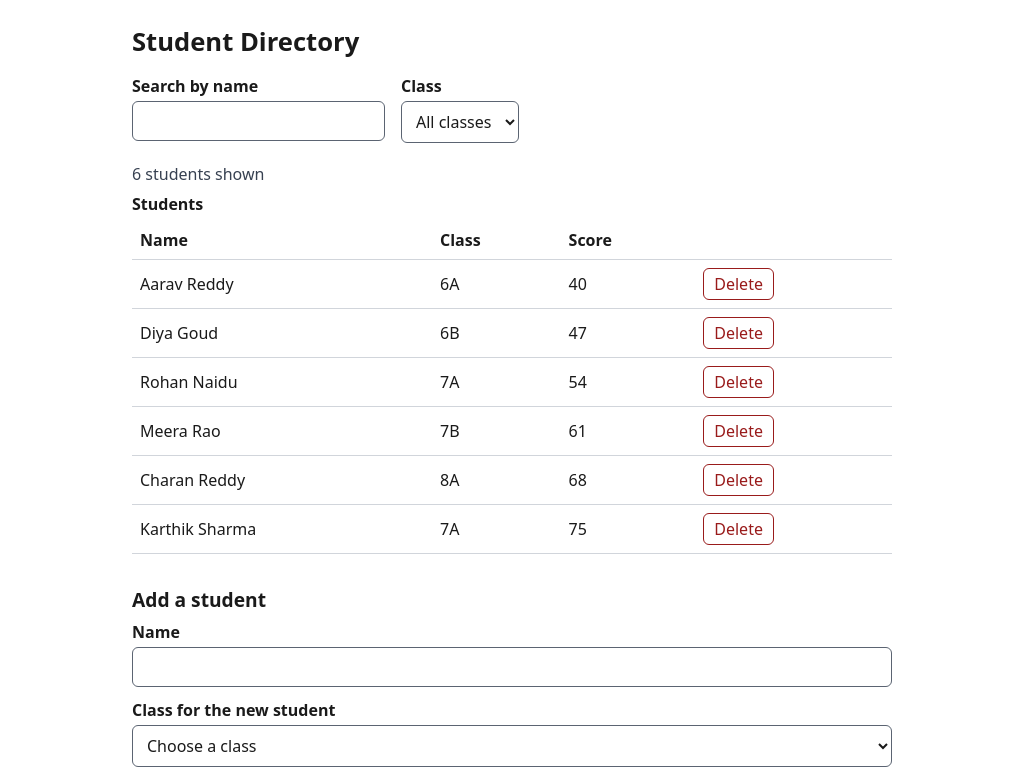
Test: adding a student › adds, announces it, shows it, clears the form and puts the cursor back in Name
The image size is (1024, 768).
Check: the table is shown, box x1=132 y1=193 x2=892 y2=554
Type "Zara Khan" into the field labelled "Name".
click(512, 667); type("Zara Khan")  # box x1=132 y1=647 x2=892 y2=687
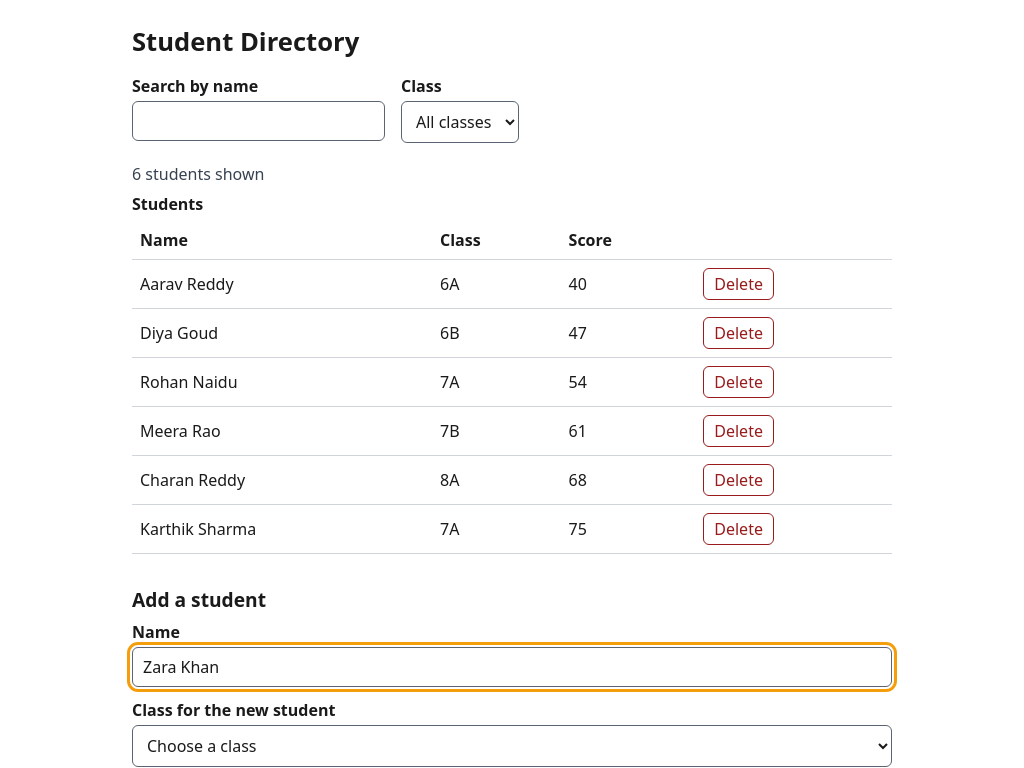
Select "8A" in the dropdown labelled "Class for the new student" at (512, 746), box x1=132 y1=725 x2=892 y2=767
(page scrolled)
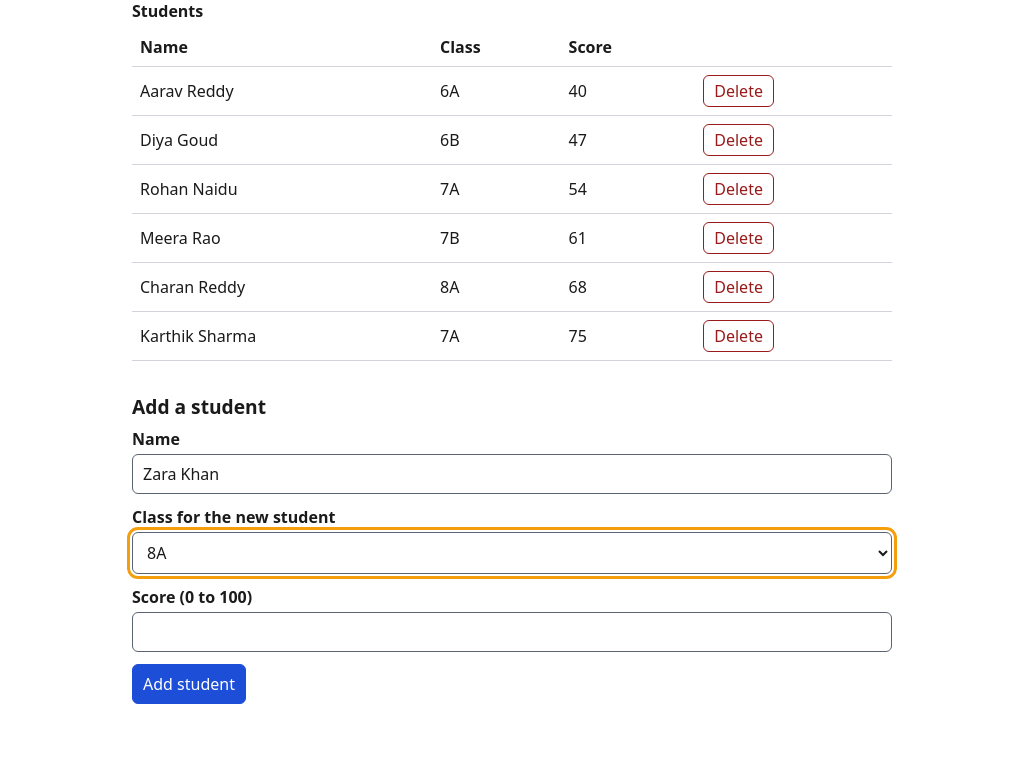
Type "77" into the field labelled "Score (0 to 100)".
click(512, 632); type("77")  # box x1=132 y1=612 x2=892 y2=652
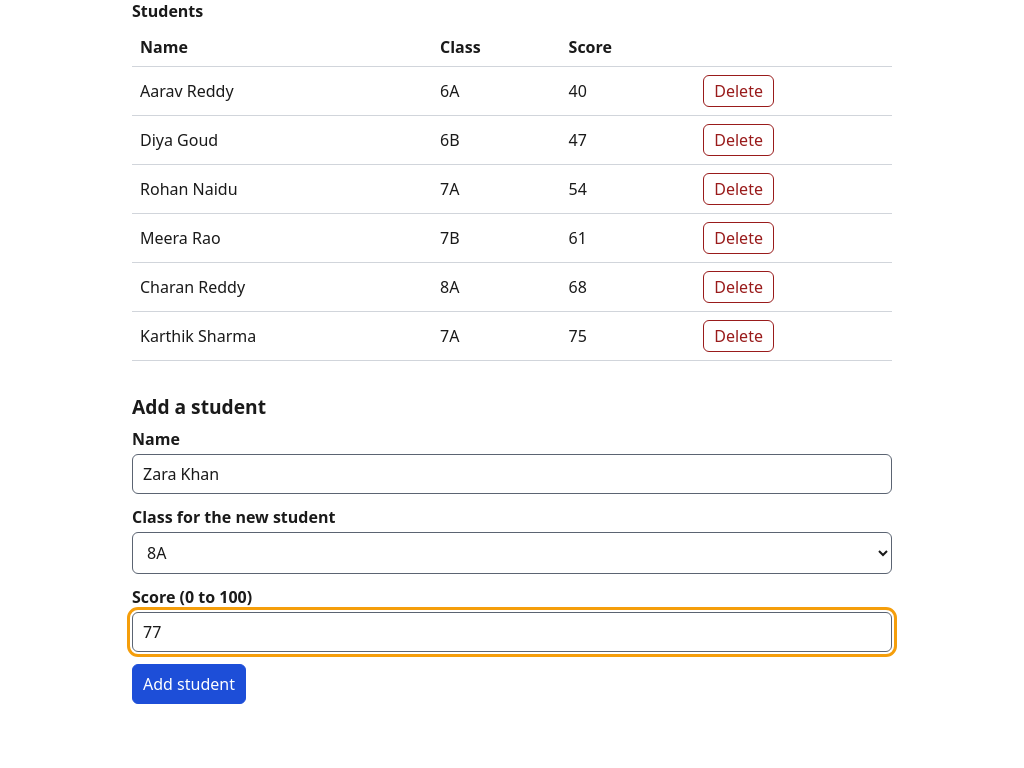
Click the button "Add student".
click(189, 684)  # box x1=132 y1=664 x2=246 y2=704
(page scrolled)
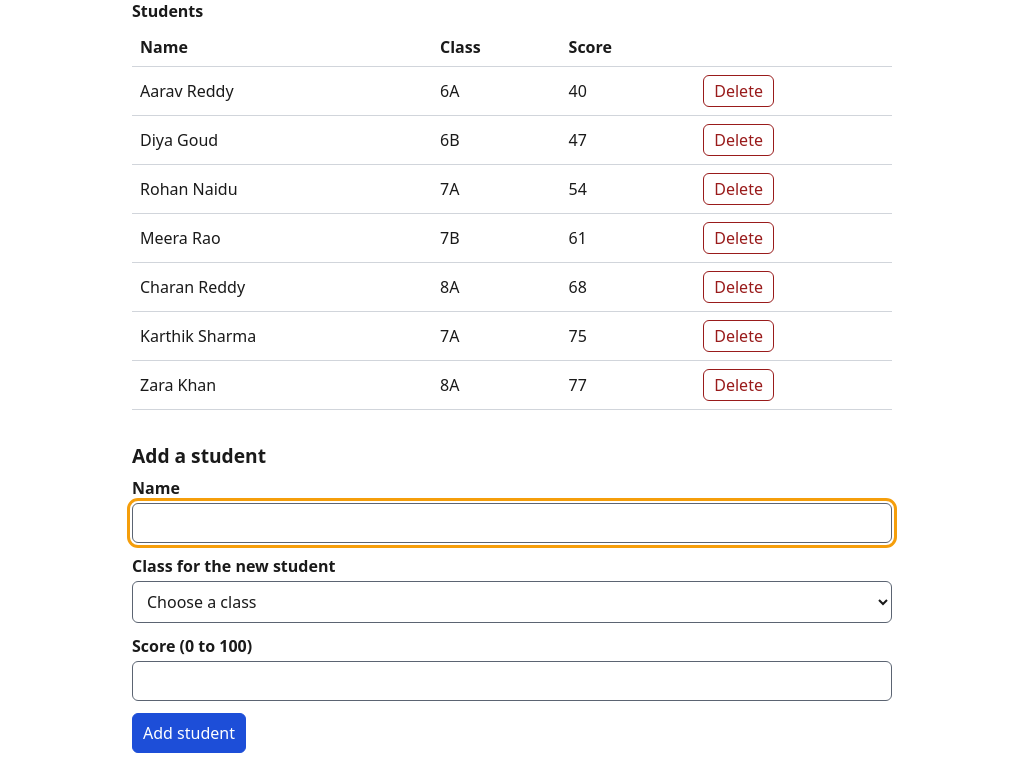
Check: the column heading "Zara Khan" is shown, box x1=132 y1=360 x2=432 y2=410
Check: the field labelled "Name" is empty, box x1=132 y1=503 x2=892 y2=543
